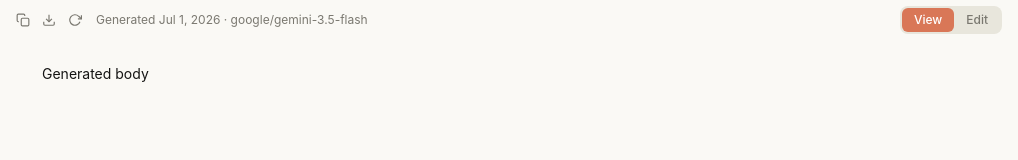
Test: TabContentView export menu › sends current renderer content and context through the format-aware interface
This screenshot has width=1018, height=160.
Click the button named "Export Tab" at (49,20), box [36, 7, 62, 33]
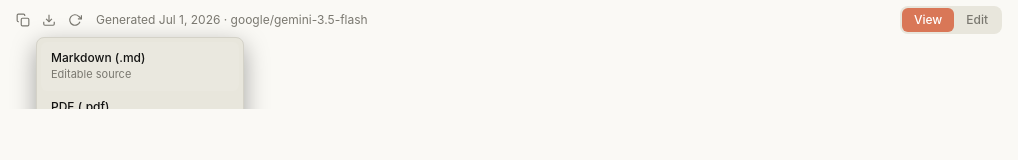
Click the menu item "Markdown (.md) Editable source" at (140,66), box [41, 42, 239, 90]
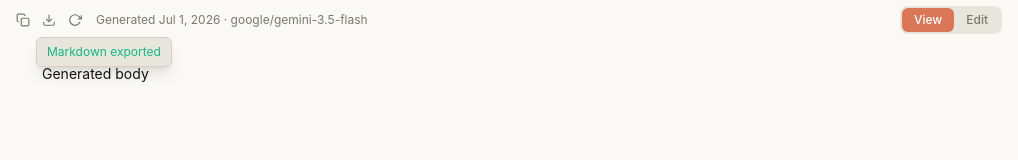
expect the menu is gone: met
